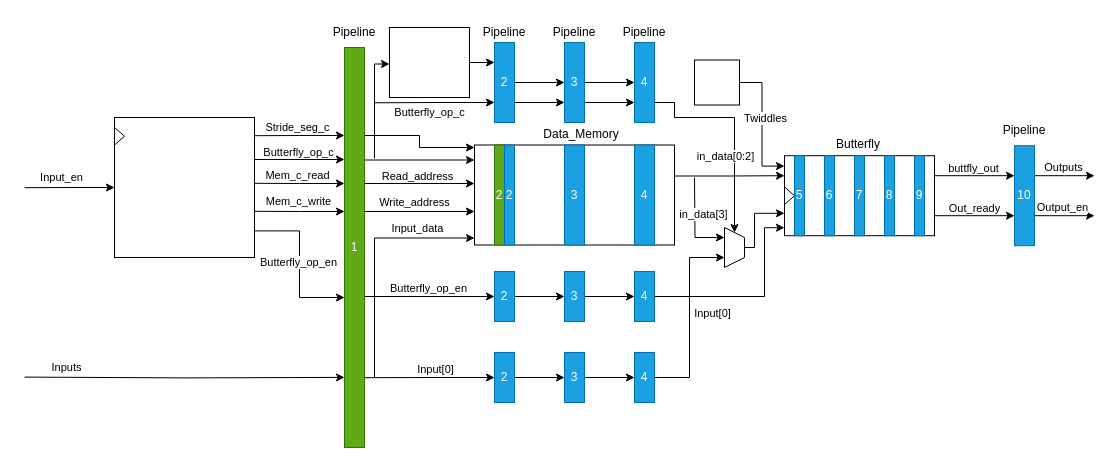
This 1120x465 diagram has some shape labels left out. Each missing label, with the box of its shape:
Control Unit: (114, 116, 254, 258)
Twiddle mem: (694, 59, 740, 105)
Twiddle_index Calculator: (388, 26, 470, 98)
